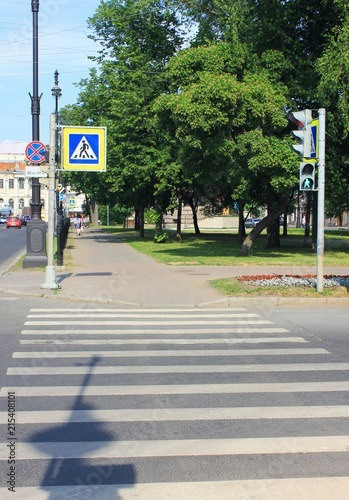crosswalk: (0, 300, 348, 499)
pedestrian_walk: (300, 176, 316, 192)
pole: (23, 113, 57, 288), (25, 0, 46, 164), (24, 179, 46, 266), (29, 0, 41, 144), (29, 148, 37, 165)
vegetation: (62, 0, 348, 219), (103, 226, 315, 264), (326, 230, 348, 267)
